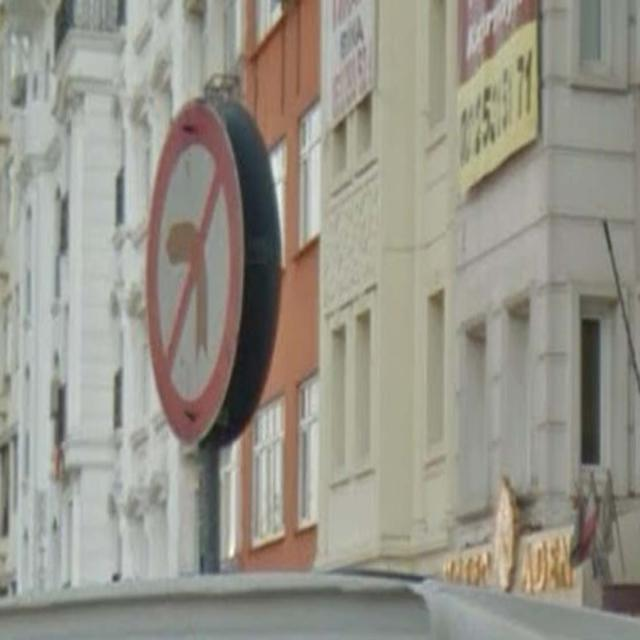soladonulmez: (144, 100, 243, 452)
